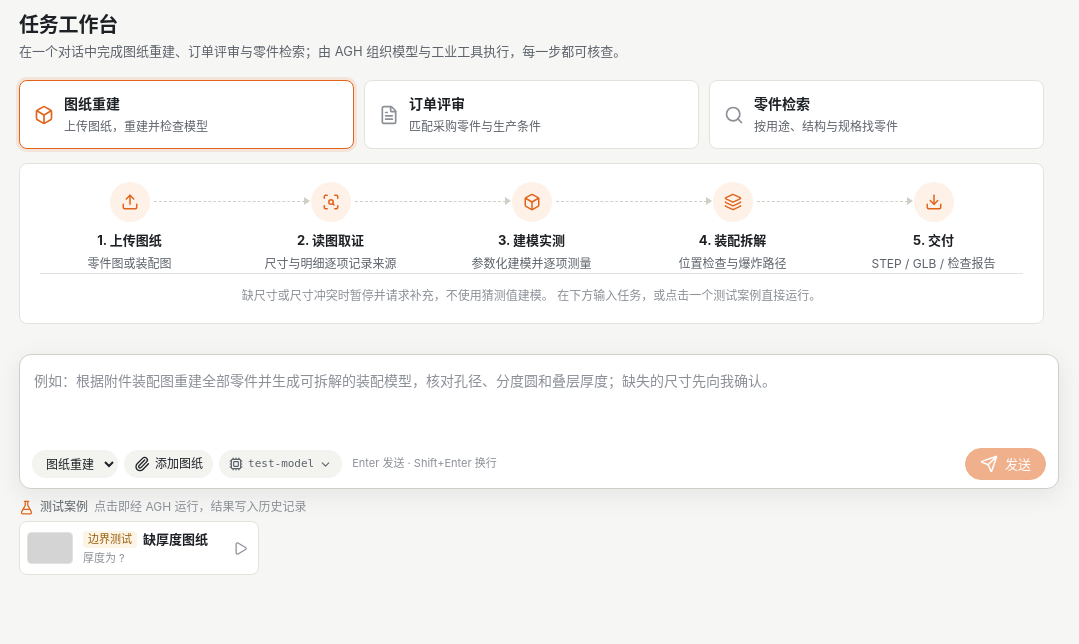
TaskWorkspace input and execution evidence › retains failed input and reports failure without a fabricated success
Select "零件检索" in the dropdown named "任务类型" at (75, 464), box 32,450 -> 118,478
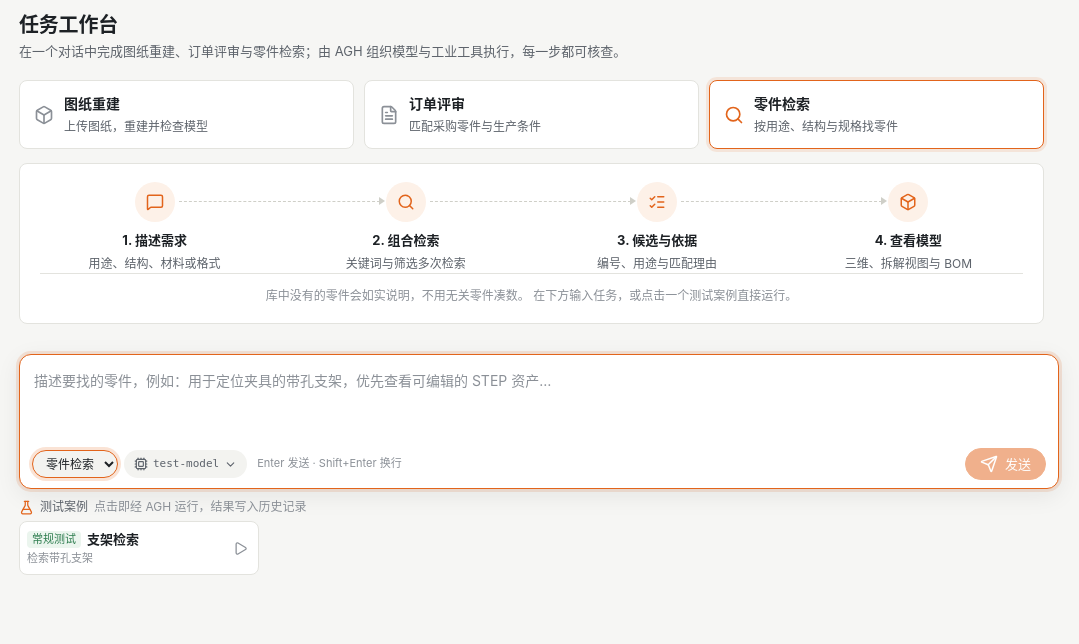
Type "保留这条检索要求" into the text box named "这次需要完成什么？" at (539, 403), box 32,365 -> 1046,442
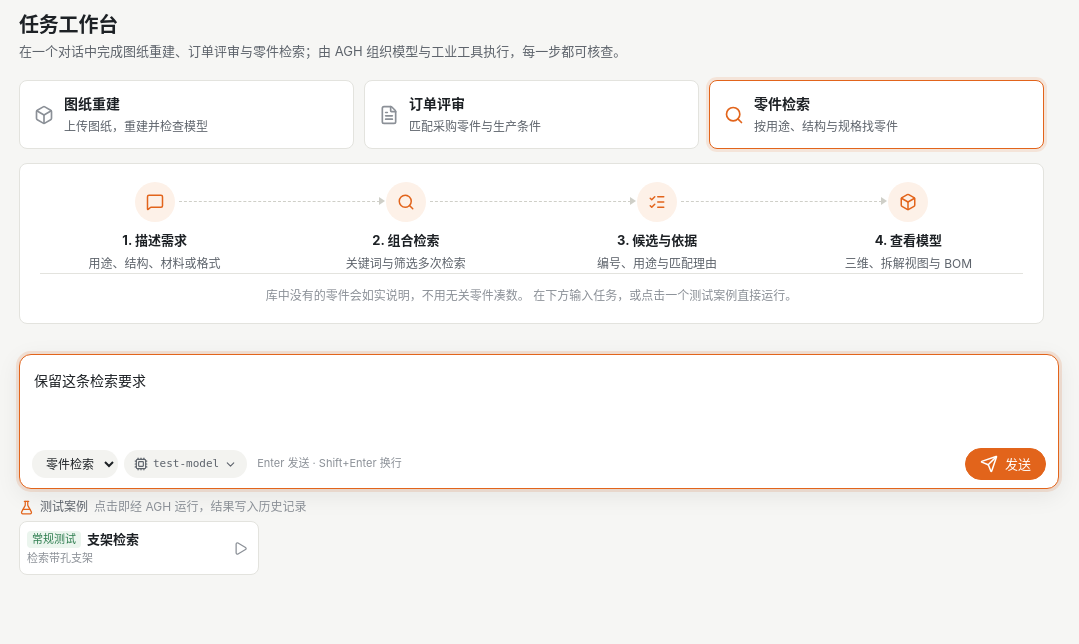
Click the button with aria-label "开始任务" at (1006, 464), box 965,448 -> 1046,480
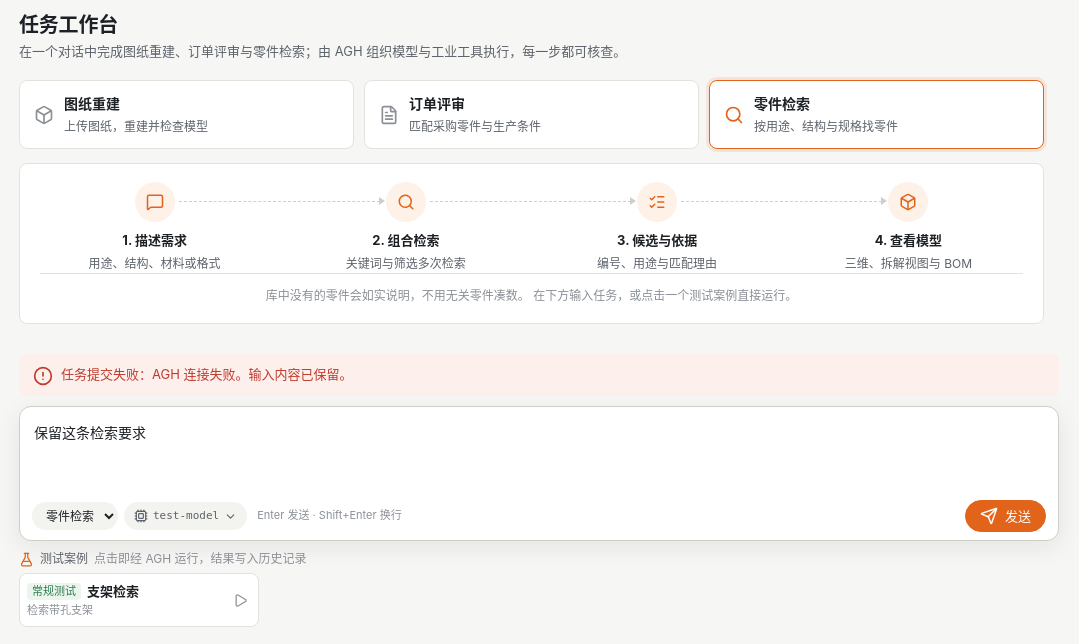
Result: the button with aria-label "开始任务" is enabled at 965,500 -> 1046,532
Result: the message shows "AGH 连接失败" at 61,366 -> 352,382
